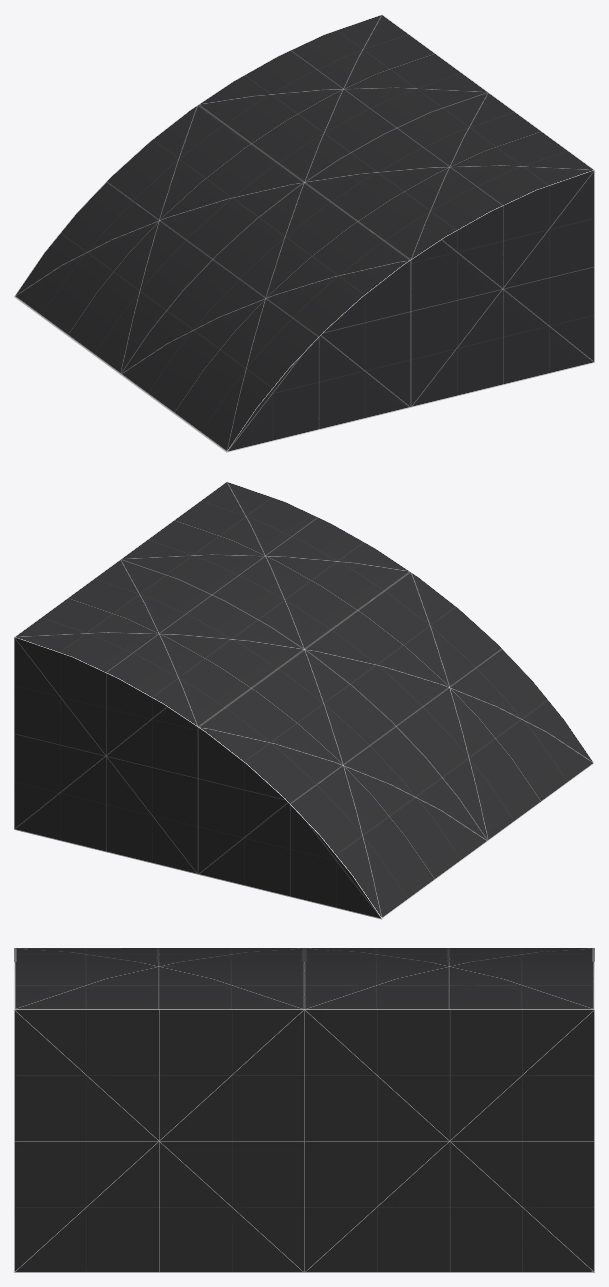
File: ramp_inverse-transformed.glb
The picture shows the model from 3 angles, top to bottom: view 1: azimuth 30°, elevation 25°; view 2: azimuth 150°, elevation 25°; view 3: azimuth 270°, elevation 25°; orthographic projection. The views are drawn at different scales.
Parts seen in each view (by area): view 1: RampInverse; view 2: RampInverse; view 3: RampInverse.
Boxes of the visible parts, x1,y1,x2,y2 form: RampInverse: (14, 14, 594, 452); RampInverse: (14, 481, 594, 919); RampInverse: (14, 948, 594, 1272).
Size of the model in its own units: 10 by 5 by 10.
1 material, 1 textured.
